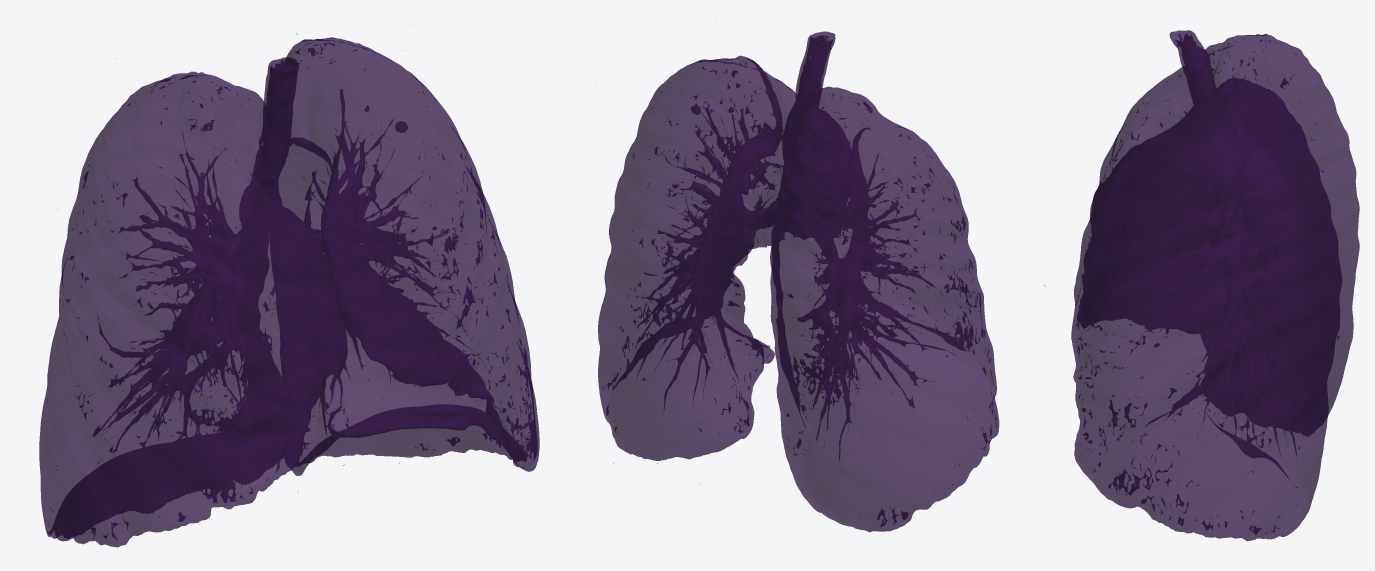
The model's file is sick-lungs-semi-visibles.glb.
3 views of the same model, side by side, from view 1: azimuth 30°, elevation 25°; view 2: azimuth 150°, elevation 25°; view 3: azimuth 270°, elevation 25° (orthographic). The views are drawn at different scales.
Parts seen in each view (by area): view 1: SickLungSemiVisible; view 2: SickLungSemiVisible; view 3: SickLungSemiVisible.
Boxes of the visible parts, x1,y1,x2,y2 form: SickLungSemiVisible: (39,25,539,547); SickLungSemiVisible: (596,31,999,532); SickLungSemiVisible: (1044,14,1359,542).
Size of the model in its own units: 320 by 317 by 208.
